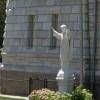Statue: (42, 16, 92, 94)
